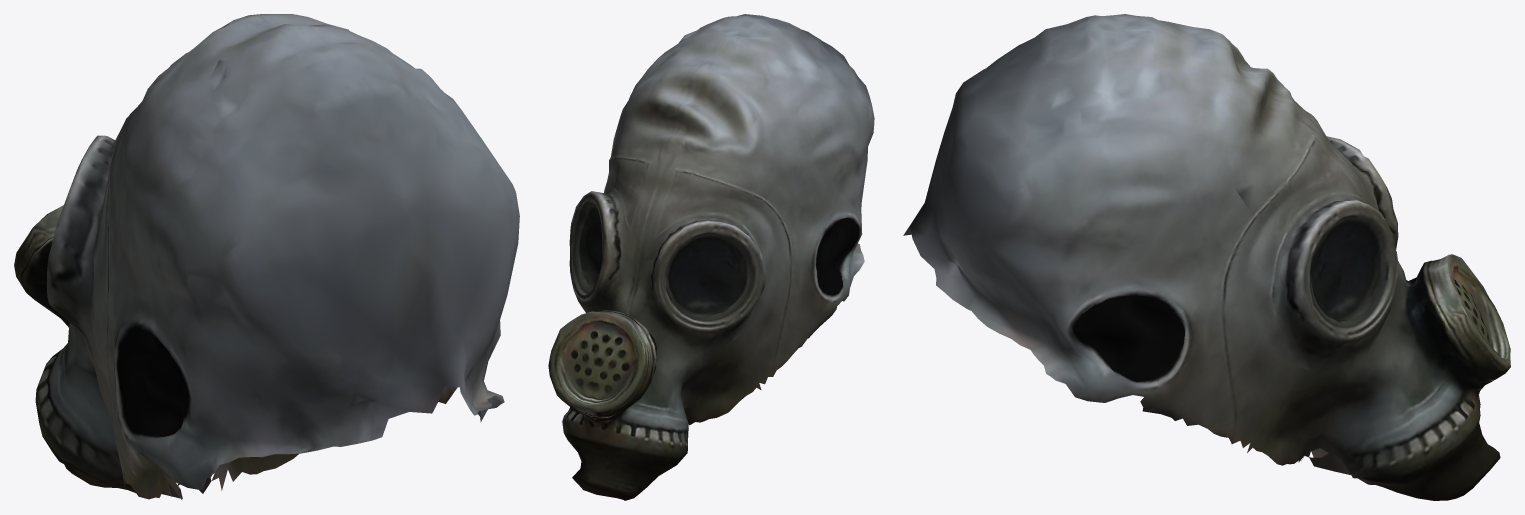
File: gasmask.fbx
3 views of the same model, side by side, from view 1: azimuth 30°, elevation 25°; view 2: azimuth 150°, elevation 25°; view 3: azimuth 270°, elevation 25° (orthographic). The views are drawn at different scales.
Visible parts, largest first — view 1: gasmask; view 2: gasmask; view 3: gasmask.
Boxes of the visible parts, box(x1,y1,x2,y2) form: gasmask: box(14, 14, 519, 499); gasmask: box(548, 14, 874, 500); gasmask: box(903, 14, 1510, 500).
Bounding box in the file's own units: 2.74 × 4.51 × 5.37.
1 material, 1 textured.
